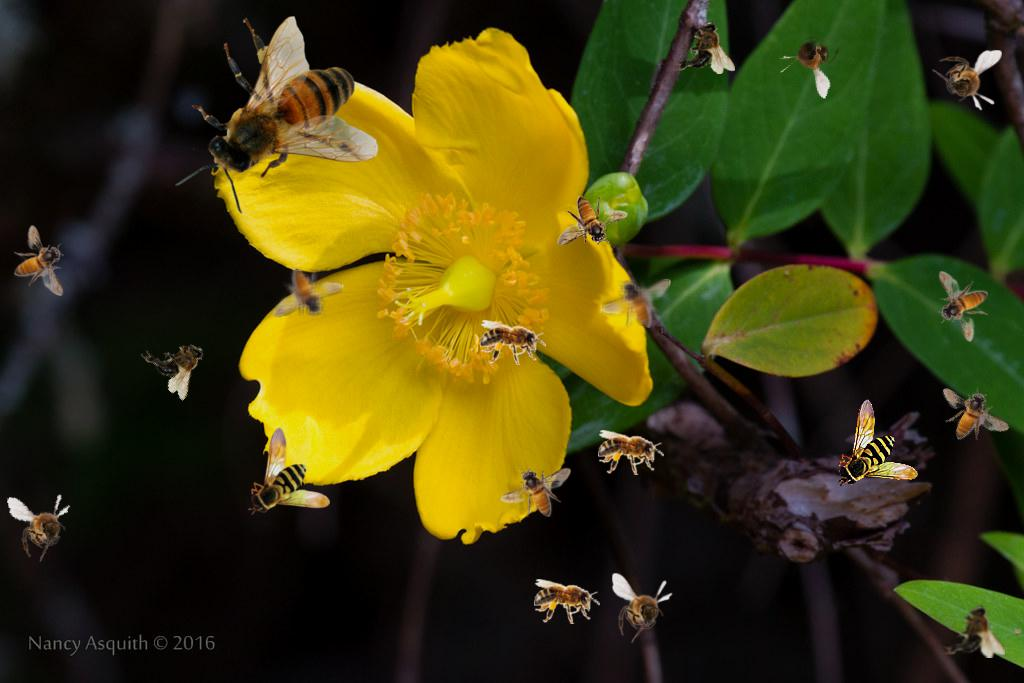Bee: (175, 16, 379, 215), (769, 12, 854, 102), (928, 370, 1012, 457), (248, 427, 330, 515), (836, 399, 918, 487), (137, 321, 220, 403), (6, 485, 81, 567), (932, 50, 1002, 111), (612, 573, 673, 643), (14, 225, 64, 296), (273, 268, 344, 318), (557, 196, 628, 246), (600, 278, 671, 328), (500, 467, 571, 517), (938, 271, 988, 342), (943, 605, 1005, 658), (673, 21, 735, 74), (534, 579, 600, 624), (598, 430, 664, 475), (480, 320, 546, 365)
